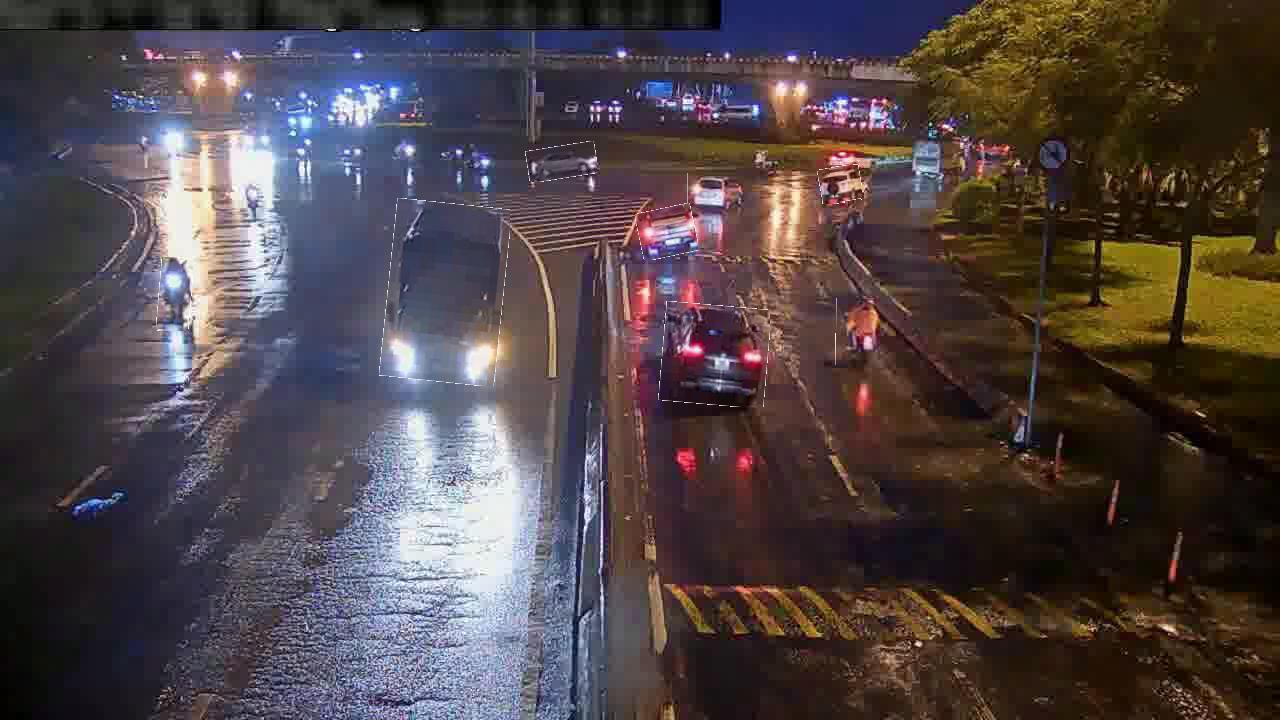8: (384, 201, 507, 385)
container: (660, 303, 769, 406), (637, 206, 697, 258), (526, 144, 597, 181), (687, 173, 740, 209), (819, 166, 862, 204)
motorbike: (836, 298, 875, 366), (158, 258, 193, 332)
